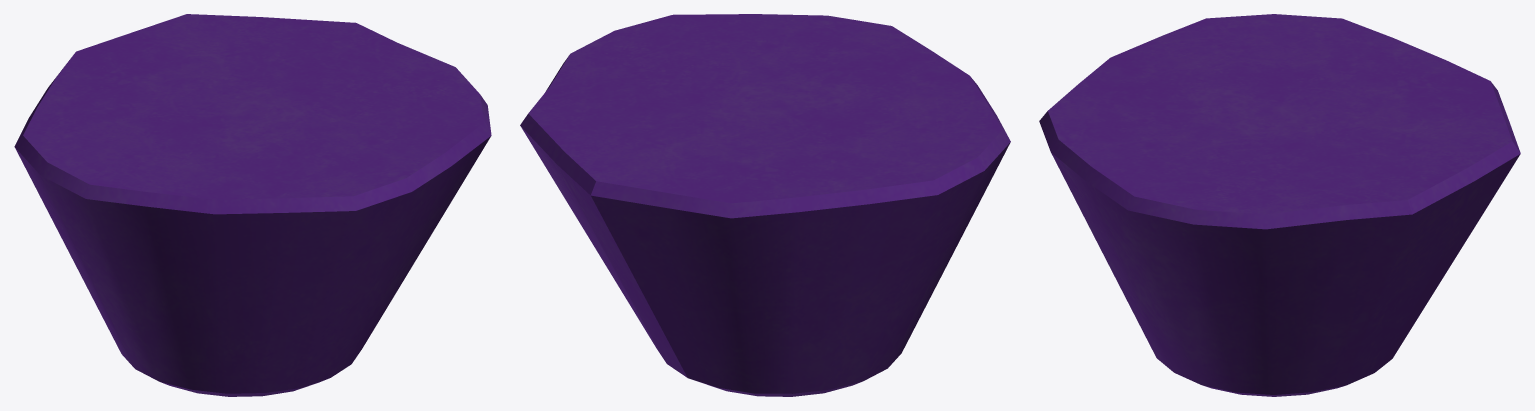
The model's file is SV_candleHolderTable.fbx.
3 views of the same model, side by side, from view 1: azimuth 30°, elevation 25°; view 2: azimuth 150°, elevation 25°; view 3: azimuth 270°, elevation 25° (orthographic).
Parts seen in each view (by area): view 1: pCylinder45; view 2: pCylinder45; view 3: pCylinder45.
Part boxes in pixels (x1=…): pCylinder45: x1=14, y1=14, x2=491, y2=396; pCylinder45: x1=520, y1=14, x2=1010, y2=396; pCylinder45: x1=1039, y1=14, x2=1520, y2=396.
Size of the model in its own units: 13.97 by 7.6 by 13.73.
1 material, 1 textured.
